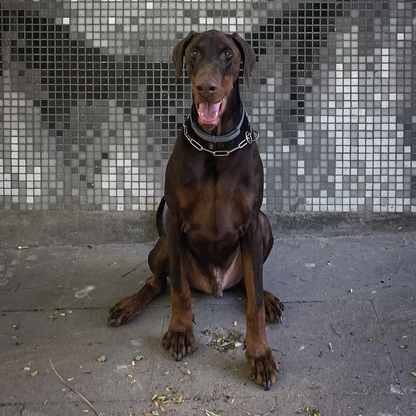doberman: (148, 26, 284, 401)
